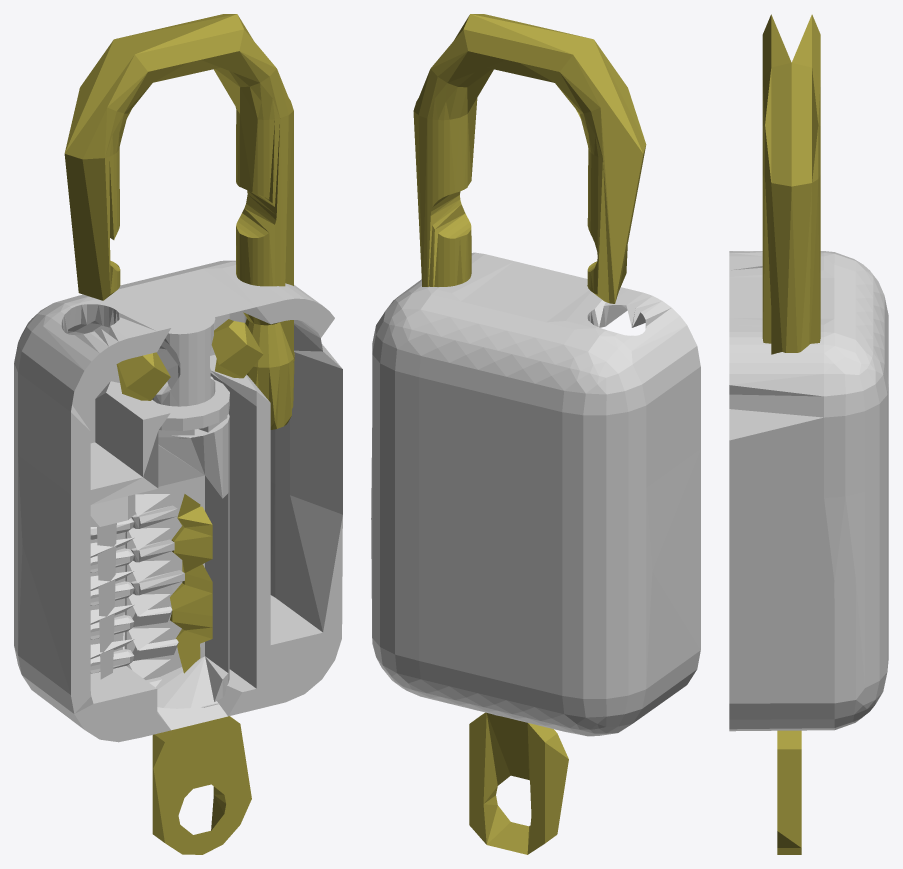
Rendered from klodka3.fbx.
The picture shows the model from 3 angles, left to right: view 1: azimuth 30°, elevation 25°; view 2: azimuth 150°, elevation 25°; view 3: azimuth 270°, elevation 25°; orthographic projection. The views are drawn at different scales.
Visible parts, largest first — view 1: obudowa, luk, mechanizm, klucz, cylinder na kulki, kulki, lozysko; view 2: obudowa, luk, klucz; view 3: obudowa, luk, klucz.
Part boxes in pixels (bbox=[...]): obudowa: bbox=[14, 260, 342, 742]; luk: bbox=[64, 14, 294, 429]; mechanizm: bbox=[124, 414, 229, 708]; klucz: bbox=[152, 494, 251, 854]; cylinder na kulki: bbox=[152, 317, 215, 406]; kulki: bbox=[116, 319, 263, 400]; lozysko: bbox=[157, 379, 229, 437]; obudowa: bbox=[371, 252, 700, 736]; luk: bbox=[413, 14, 646, 303]; klucz: bbox=[469, 712, 568, 854]; obudowa: bbox=[729, 251, 888, 731]; luk: bbox=[762, 14, 820, 354]; klucz: bbox=[777, 730, 801, 854].
Size of the model in its own units: 6.65 by 19.26 by 3.44.
